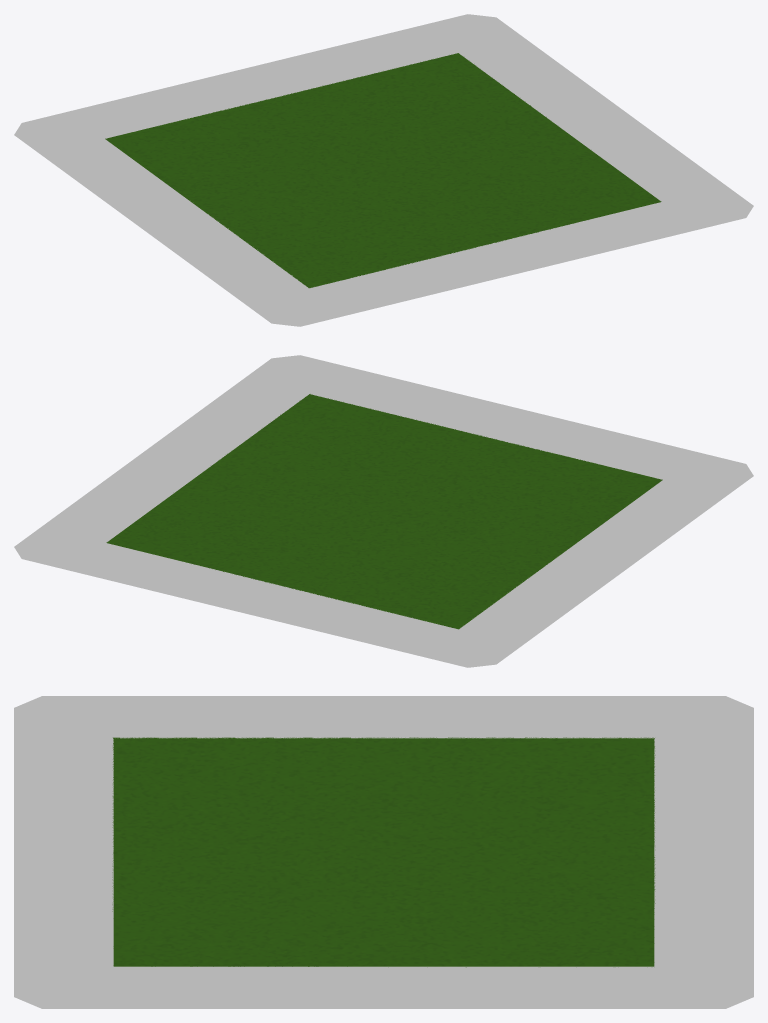
File: CITY_HouseBases.FBX
The picture shows the model from 3 angles, top to bottom: view 1: azimuth 30°, elevation 25°; view 2: azimuth 150°, elevation 25°; view 3: azimuth 270°, elevation 25°; orthographic projection. The views are drawn at different scales.
Visible parts, largest first — view 1: Object030, Object029; view 2: Object030, Object029; view 3: Object030, Object029.
Part boxes in pixels (x1=…): Object030: x1=105, y1=53, x2=661, y2=288; Object029: x1=14, y1=14, x2=753, y2=326; Object030: x1=106, y1=394, x2=662, y2=629; Object029: x1=14, y1=355, x2=753, y2=667; Object030: x1=112, y1=737, x2=655, y2=967; Object029: x1=14, y1=696, x2=753, y2=1008.
Size of the model in its own units: 87.22 by 87.22 by 0.
